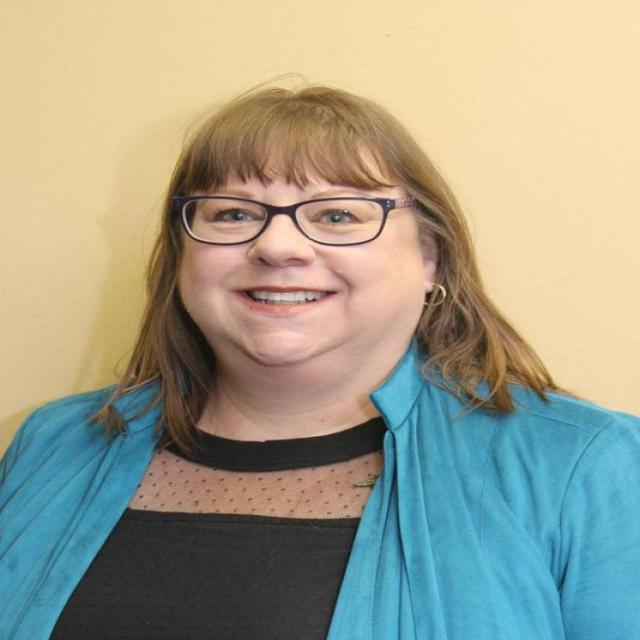mobile_phonerotation: (1, 74, 638, 637)
